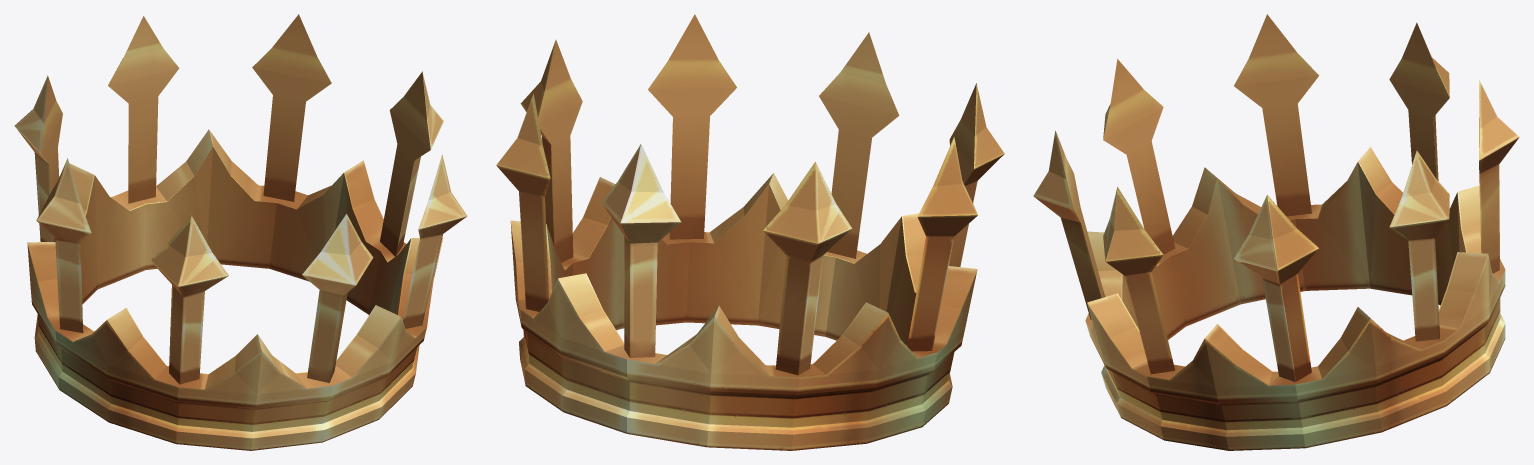
The model's file is Headwear_2600055.fbx.
The picture shows the model from 3 angles, left to right: view 1: azimuth 30°, elevation 25°; view 2: azimuth 150°, elevation 25°; view 3: azimuth 270°, elevation 25°; orthographic projection. The views are drawn at different scales.
Visible parts, largest first — view 1: Headwear_2600055; view 2: Headwear_2600055; view 3: Headwear_2600055.
Boxes of the visible parts, bbox=[...] form: Headwear_2600055: bbox=[14, 14, 467, 450]; Headwear_2600055: bbox=[496, 14, 1004, 450]; Headwear_2600055: bbox=[1033, 14, 1519, 450].
Size of the model in its own units: 30.71 by 21.32 by 30.44.
1 material, 1 textured.
